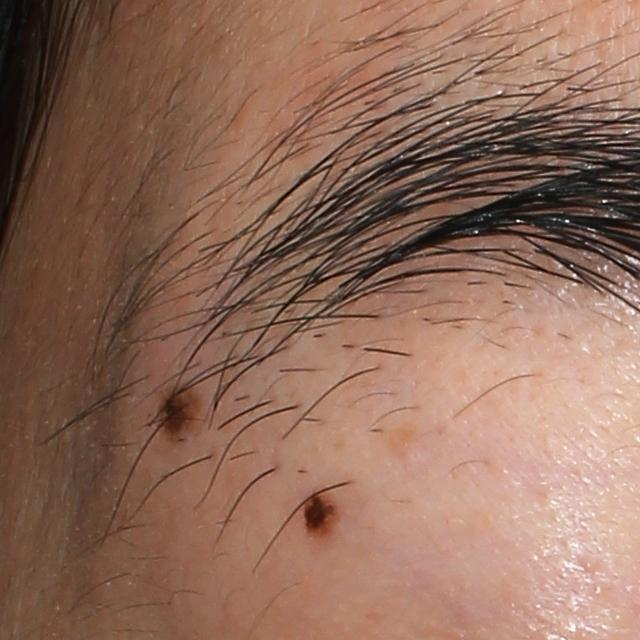nevus: (148, 381, 209, 445), (296, 487, 348, 544)
